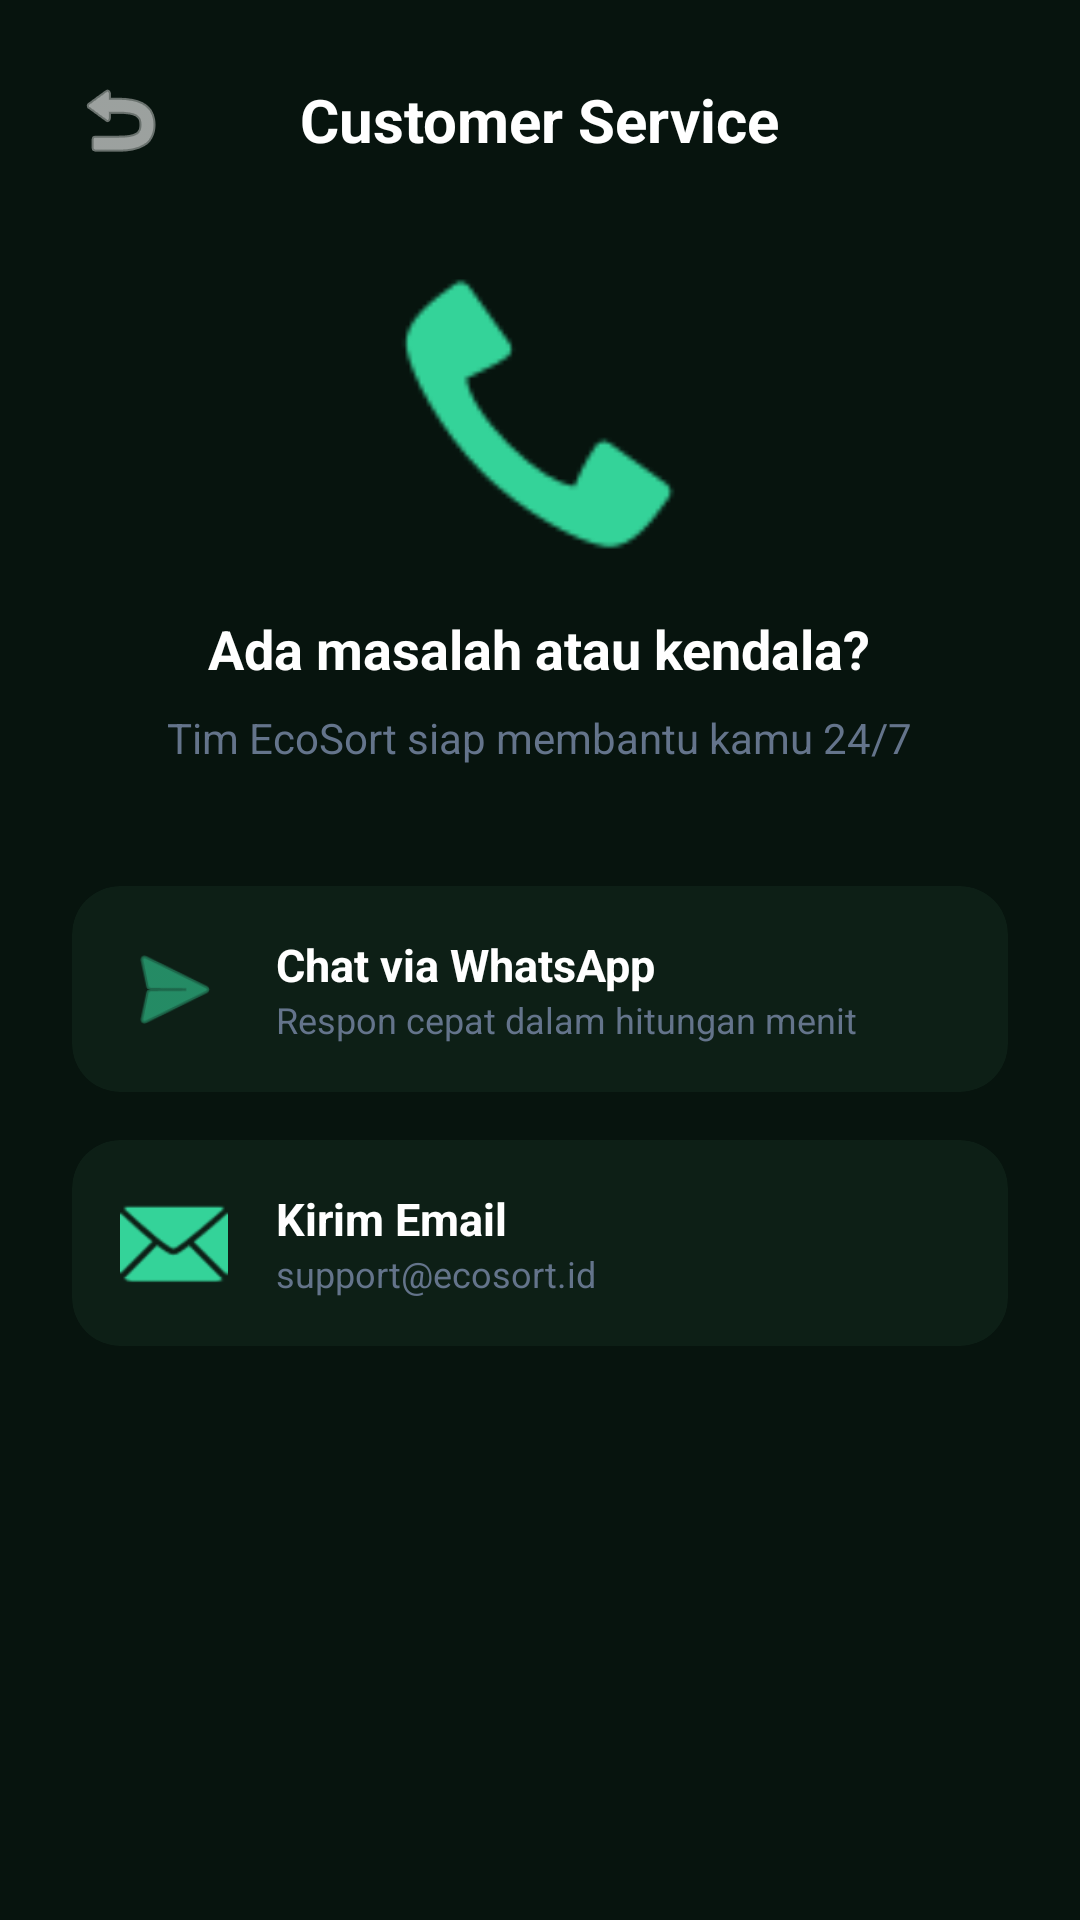

Where to tap for icons on this 1080×1920 app screen, as point (x, y):
phone call: point (539, 414)
revert: point (121, 120)
send: point (174, 990)
